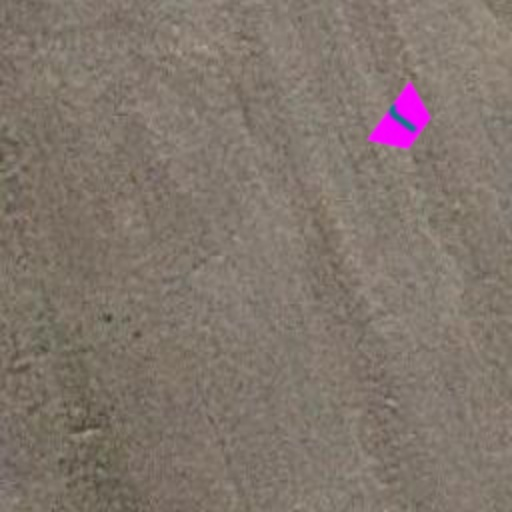trapezoid: (352, 70, 456, 174)
